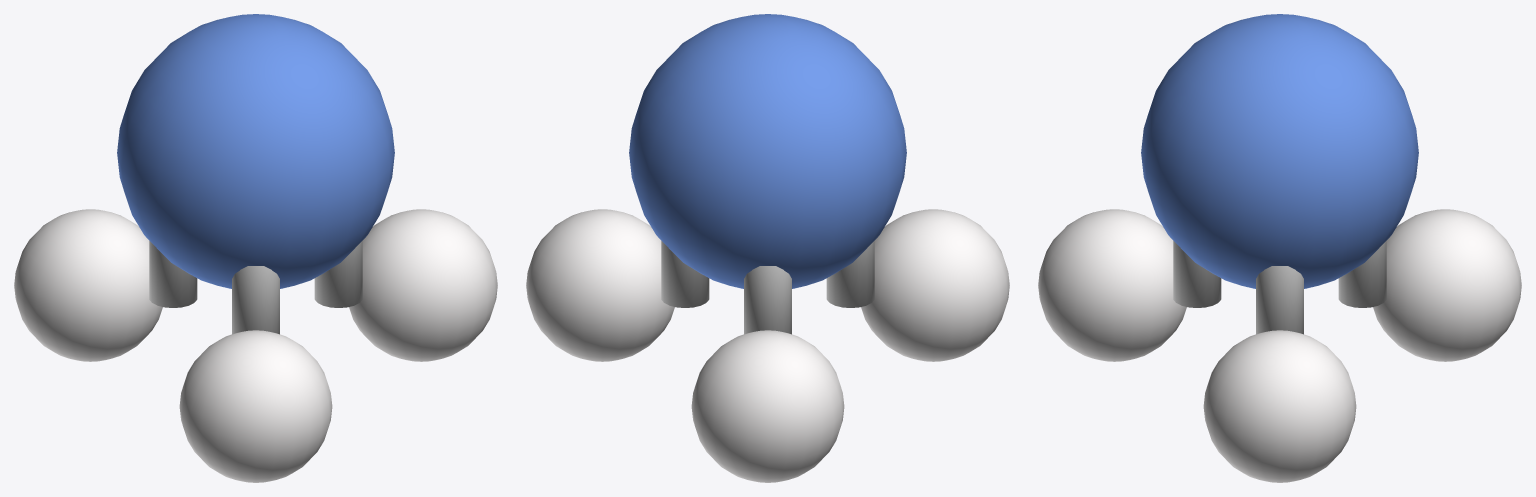
The model's file is ammonia.glb.
The picture shows the model from 3 angles, left to right: view 1: azimuth 30°, elevation 25°; view 2: azimuth 150°, elevation 25°; view 3: azimuth 270°, elevation 25°; orthographic projection.
Parts seen in each view (by area): view 1: n_node, h_node_1, h_node_0, h_node_2, b_node_1, b_node_0, b_node_2; view 2: n_node, h_node_2, h_node_0, h_node_1, b_node_2, b_node_0, b_node_1; view 3: n_node, h_node_0, h_node_1, h_node_2, b_node_0, b_node_1, b_node_2.
Part boxes in pixels (x1,y1,x2,y2): n_node: [117, 14, 394, 288]; h_node_1: [179, 330, 332, 482]; h_node_0: [349, 209, 497, 361]; h_node_2: [14, 209, 162, 361]; b_node_1: [232, 266, 279, 334]; b_node_0: [314, 241, 362, 307]; b_node_2: [149, 241, 197, 307]; n_node: [629, 14, 906, 288]; h_node_2: [691, 330, 844, 482]; h_node_0: [526, 209, 674, 361]; h_node_1: [861, 209, 1009, 361]; b_node_2: [744, 266, 791, 334]; b_node_0: [661, 241, 709, 307]; b_node_1: [826, 241, 874, 307]; n_node: [1141, 14, 1418, 288]; h_node_0: [1203, 330, 1356, 482]; h_node_1: [1038, 209, 1186, 361]; h_node_2: [1373, 209, 1521, 361]; b_node_0: [1256, 266, 1303, 334]; b_node_1: [1173, 241, 1221, 307]; b_node_2: [1338, 241, 1386, 307].
Bounding box in the file's own units: 1.27 × 1.17 × 1.39.
